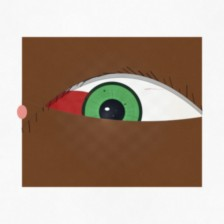hemorrhage_spot: (33, 73, 114, 138)
